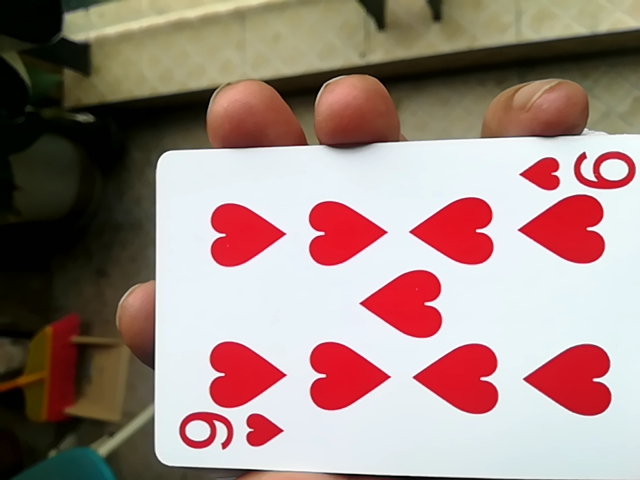hx 9: (137, 137, 631, 480)
